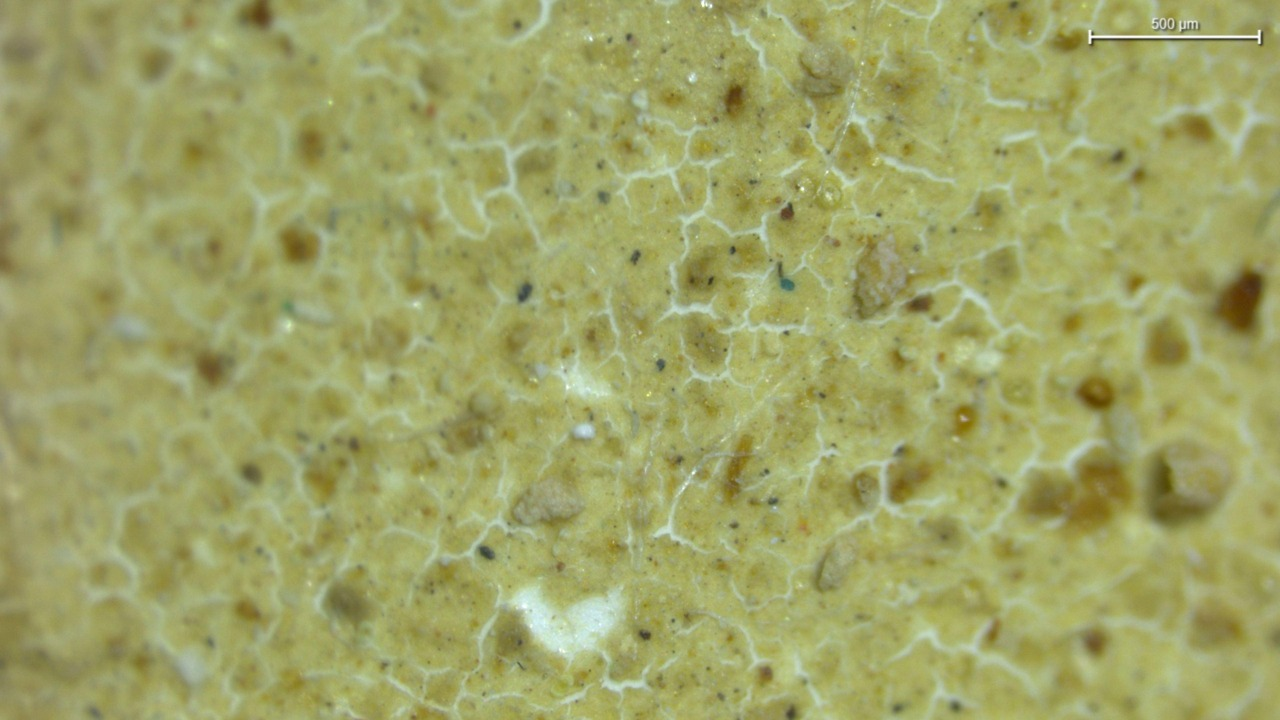microplastic_fragment: (854, 232, 905, 318), (803, 43, 857, 93), (821, 537, 849, 592), (573, 423, 596, 440)
